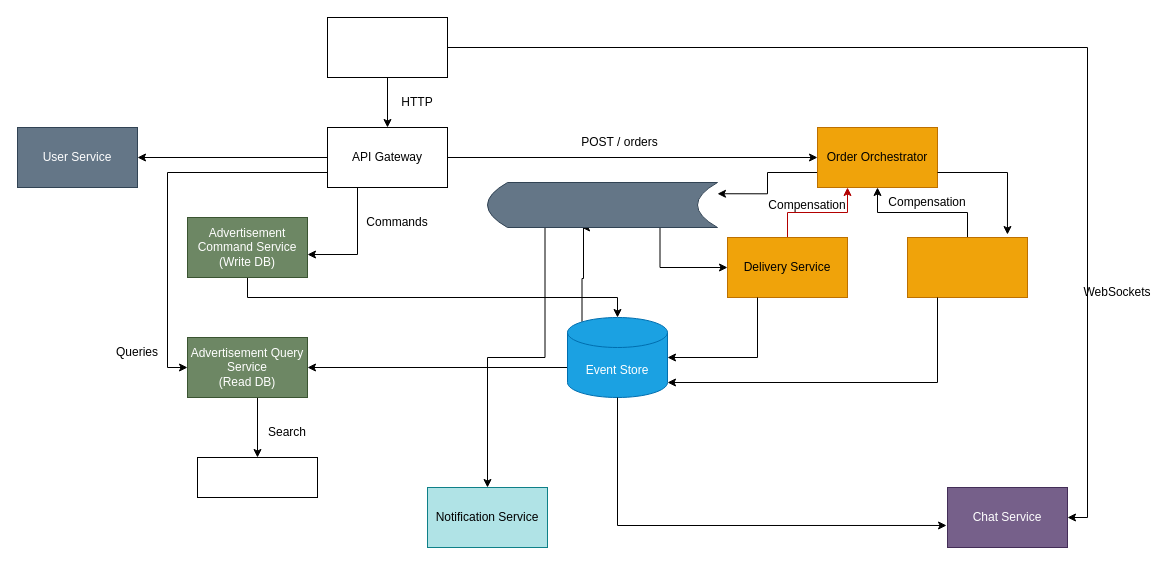
The diagram is 1168 pixels wide and 565 high, and some of its shapes have lost their labels. Here are the shapes that lost their labels. From the top down, the box of each, then its label:
(326, 16, 448, 78): Client
(486, 182, 718, 228): Message Broker
(906, 236, 1028, 298): Payment Service
(196, 456, 318, 498): Elasticsearch
